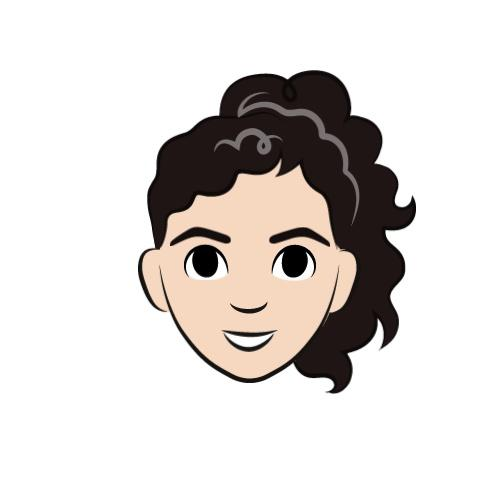NoHuman: (4, 3, 500, 500)
